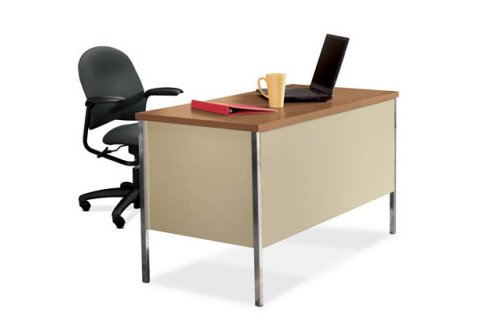desk_100.jpg: (123, 72, 403, 315)
